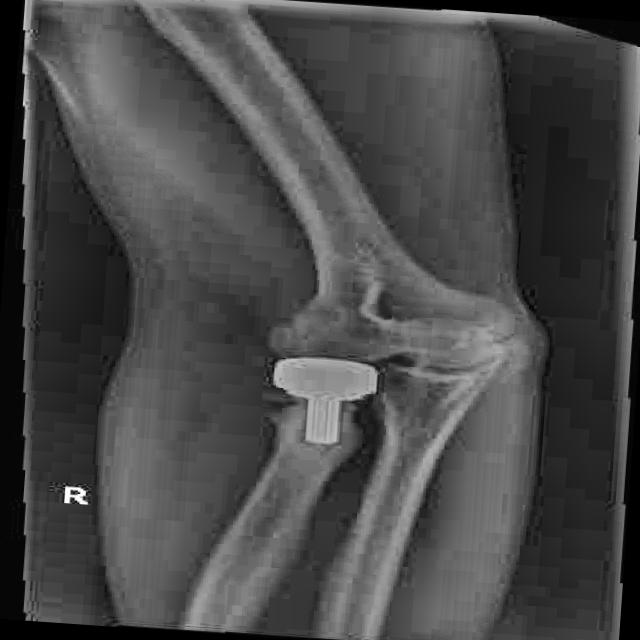elbow positive: (247, 351, 394, 462)
